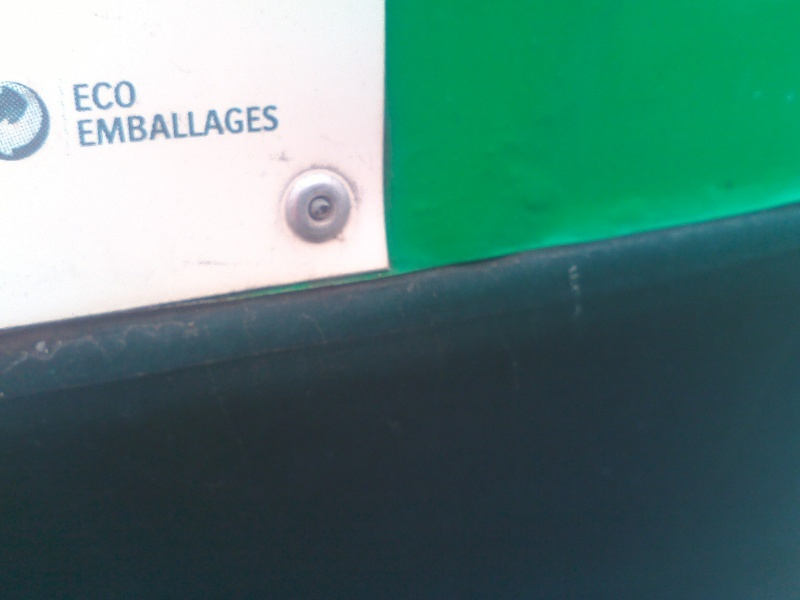text: (81, 103, 96, 147), (97, 103, 112, 147), (113, 103, 128, 147), (129, 103, 144, 147), (145, 103, 160, 147), (161, 103, 176, 147), (177, 103, 192, 147), (193, 103, 208, 147), (209, 103, 224, 147), (225, 103, 240, 147), (241, 103, 256, 147), (257, 103, 272, 147), (81, 77, 96, 113), (97, 77, 112, 113), (113, 77, 128, 113), (129, 77, 139, 113), (273, 103, 281, 147), (72, 77, 80, 113), (77, 103, 80, 147)
